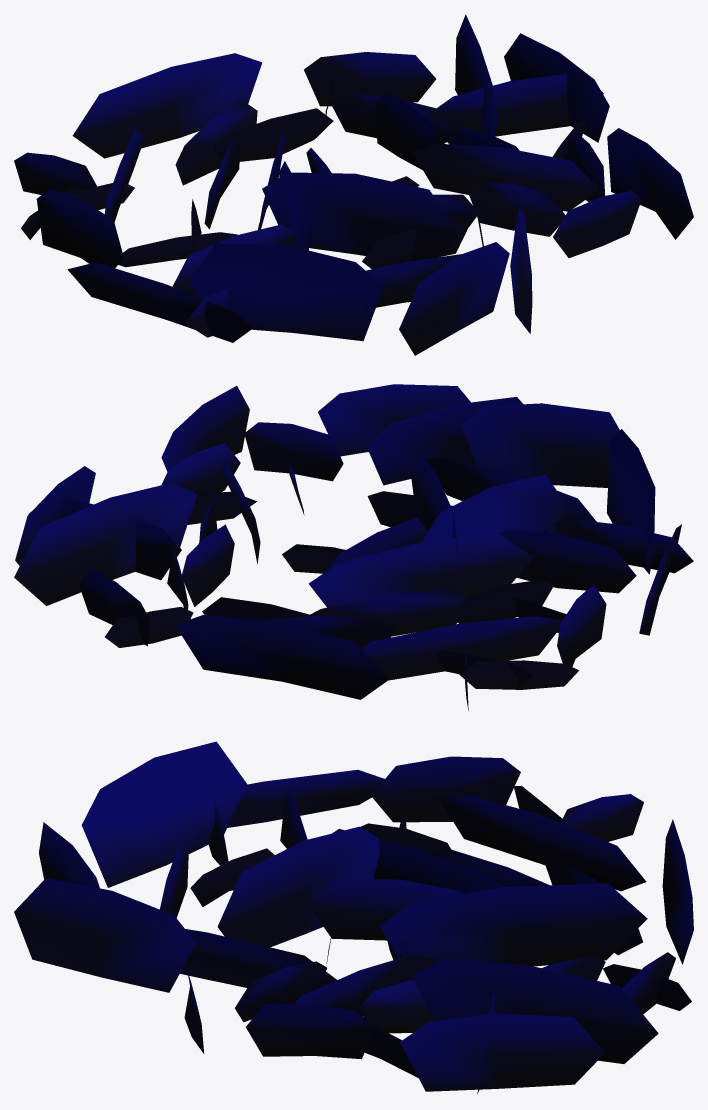
Rendered from SM_Grass_XS_Patch_L_02.fbx.
3 views of the same model, one above another, from view 1: azimuth 30°, elevation 25°; view 2: azimuth 150°, elevation 25°; view 3: azimuth 270°, elevation 25° (orthographic). The views are drawn at different scales.
Visible parts, largest first — view 1: SM_Grass_XS_Patch_L_02; view 2: SM_Grass_XS_Patch_L_02; view 3: SM_Grass_XS_Patch_L_02.
Part boxes in pixels (x1,y1,x2,y2): SM_Grass_XS_Patch_L_02: (14,14,693,355); SM_Grass_XS_Patch_L_02: (14,384,693,710); SM_Grass_XS_Patch_L_02: (14,741,693,1094).
Size of the model in its own units: 194 by 181 by 30.41.
